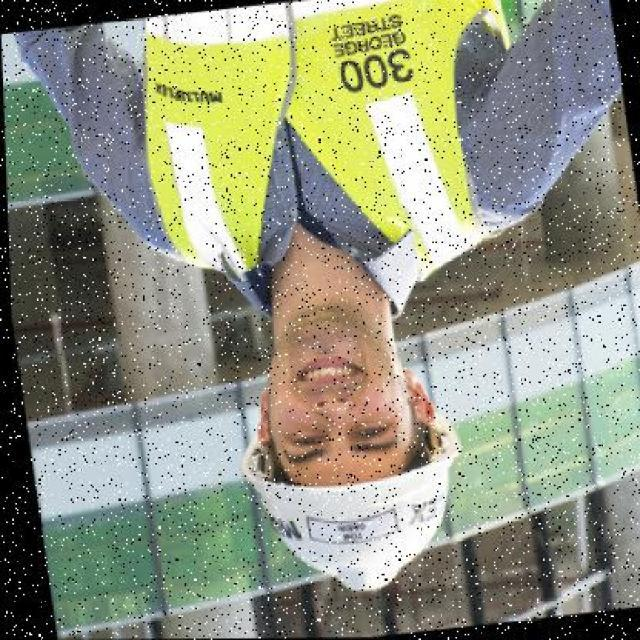helmet: (237, 446, 475, 606)
vest: (145, 0, 477, 322)
